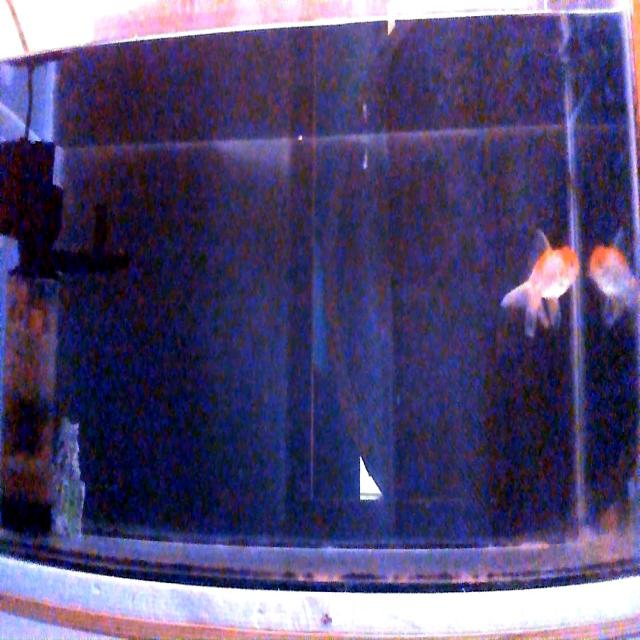fish: (501, 229, 580, 339), (588, 243, 638, 318)
